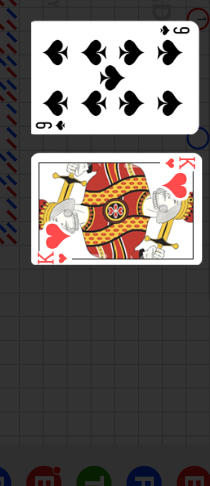9S: (35, 118, 68, 131)
KH: (36, 250, 70, 264)
